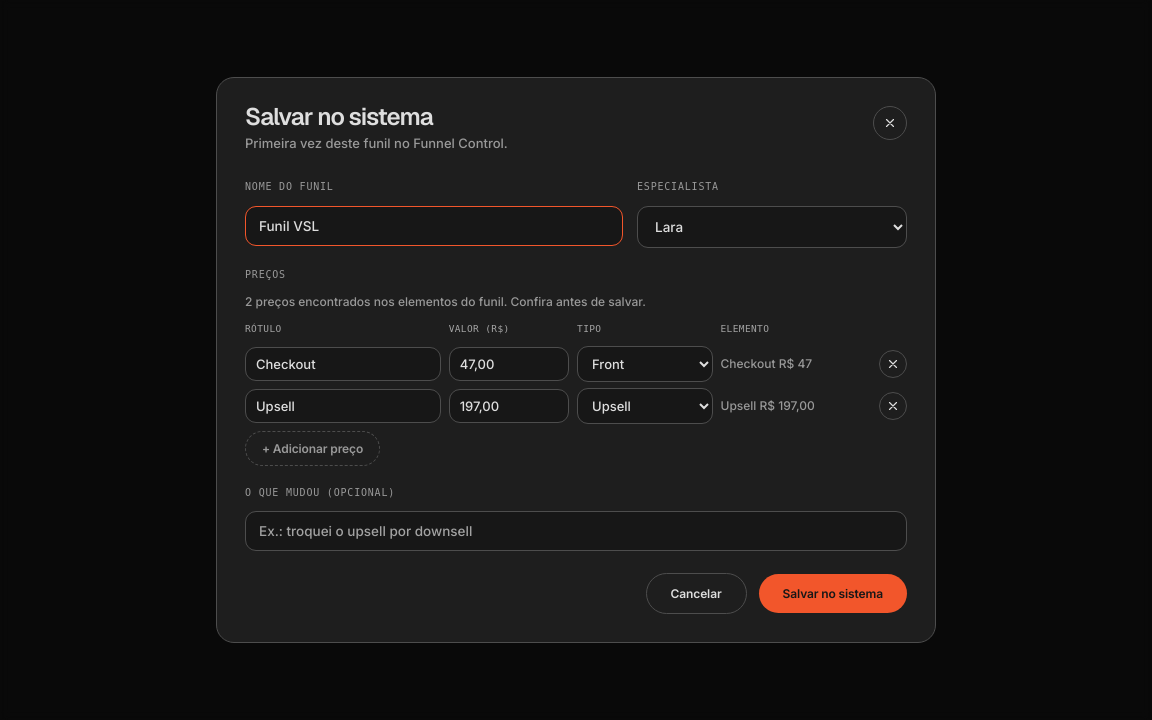
Scenario: SaveModal › erro de permissão aparece no formulário
What coordinates should you click on to do the following:
click the button "Salvar no sistema"
I would click on:
 (833, 594)
Its box is [759,574,907,613].
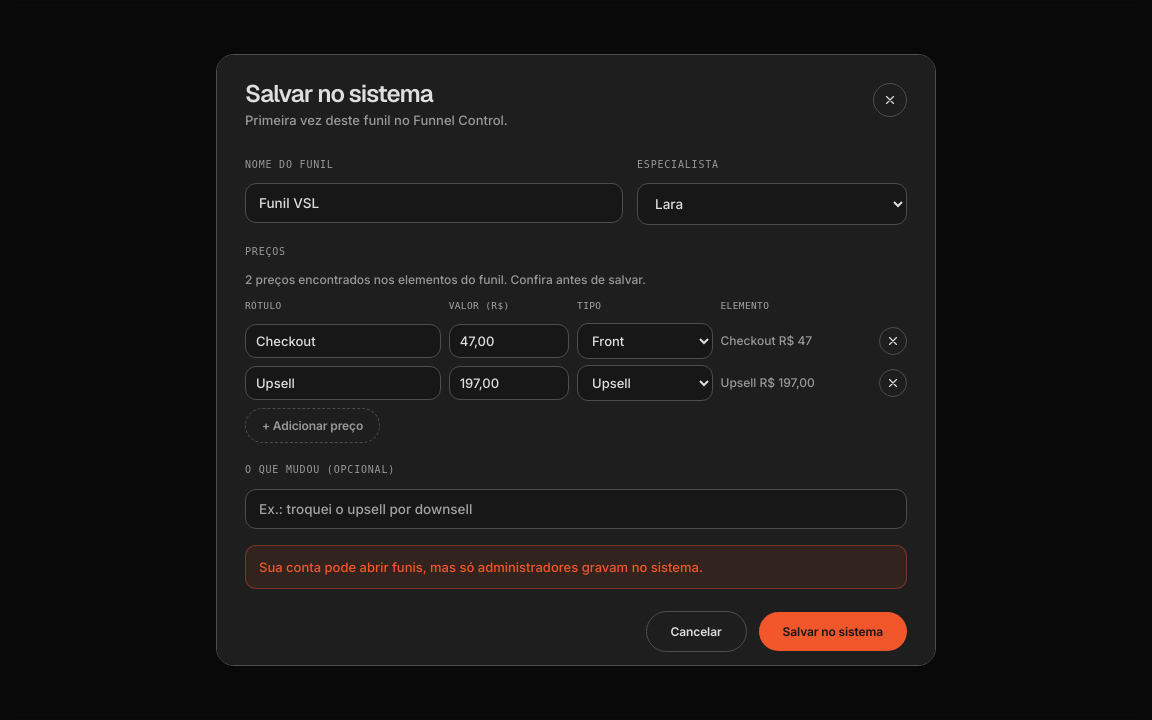
Expected: the message shows "só administradores gravam", [259,559,703,575]
